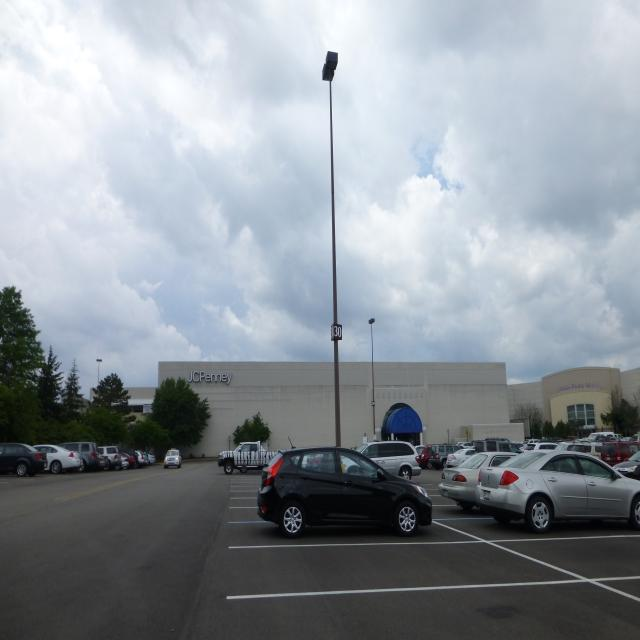car: (255, 439, 440, 540), (164, 448, 179, 471)
